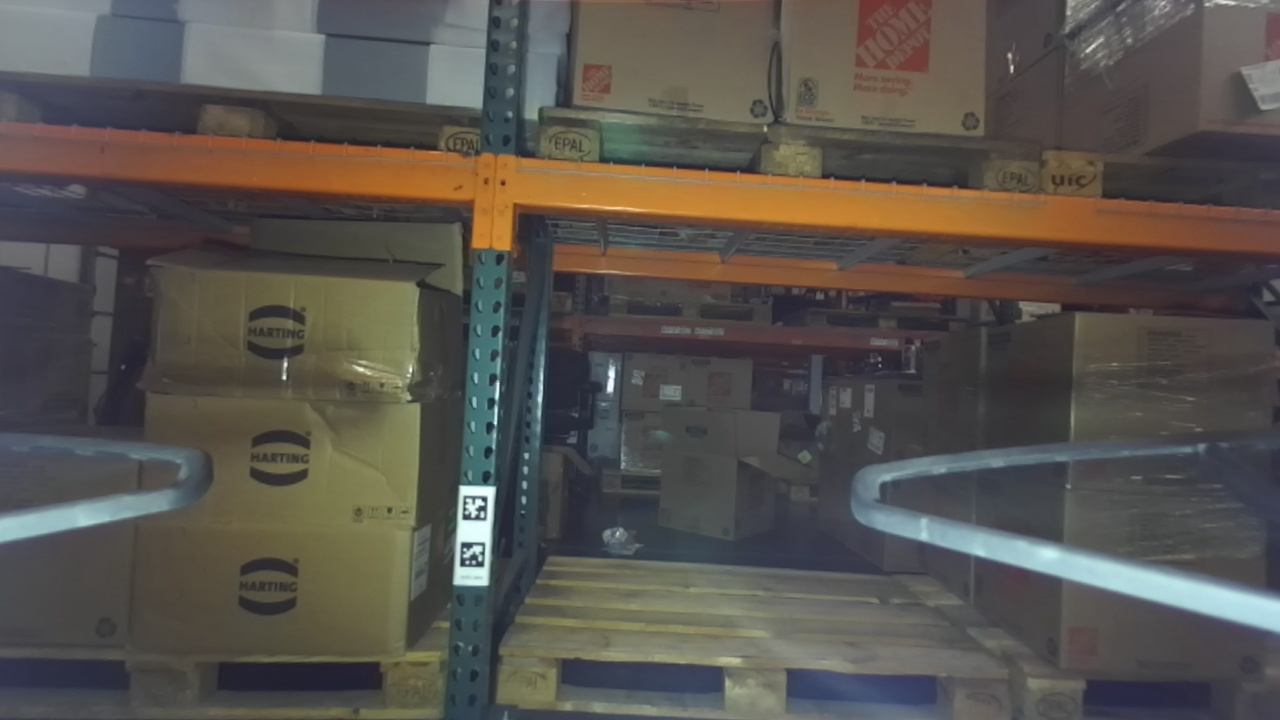box: (120, 199, 470, 411), (967, 470, 1280, 707), (966, 308, 1277, 523), (128, 374, 444, 545), (126, 527, 441, 663), (760, 6, 999, 148)
